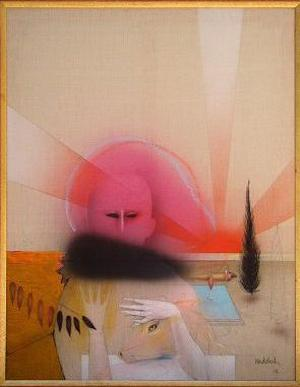person: (53, 159, 218, 384)
